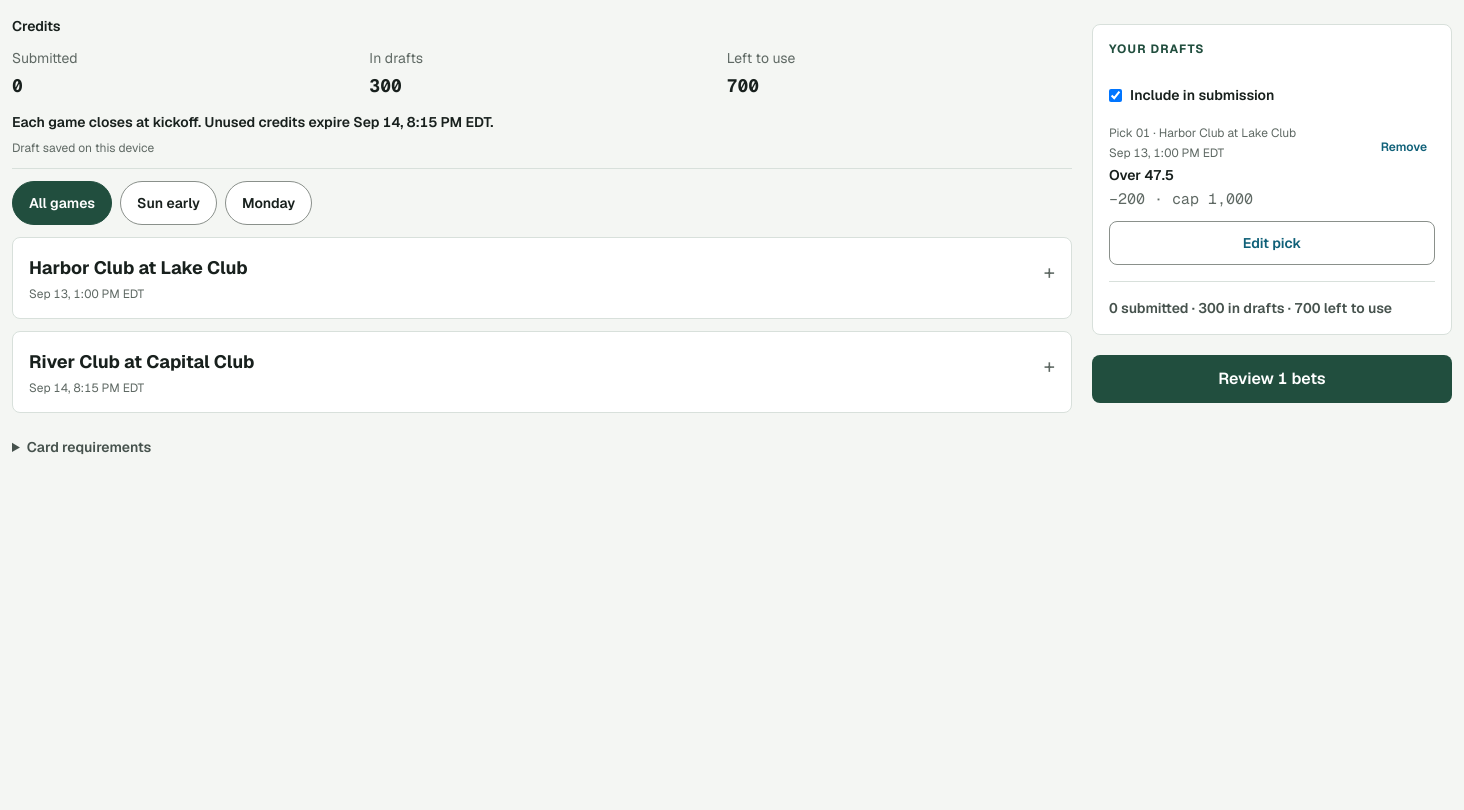
Test case: rolling member submission flow › does not overwrite another tab's draft changes during an odds review
Click the button "Review 1 bets": [1272, 379] box [1092,355,1452,403]
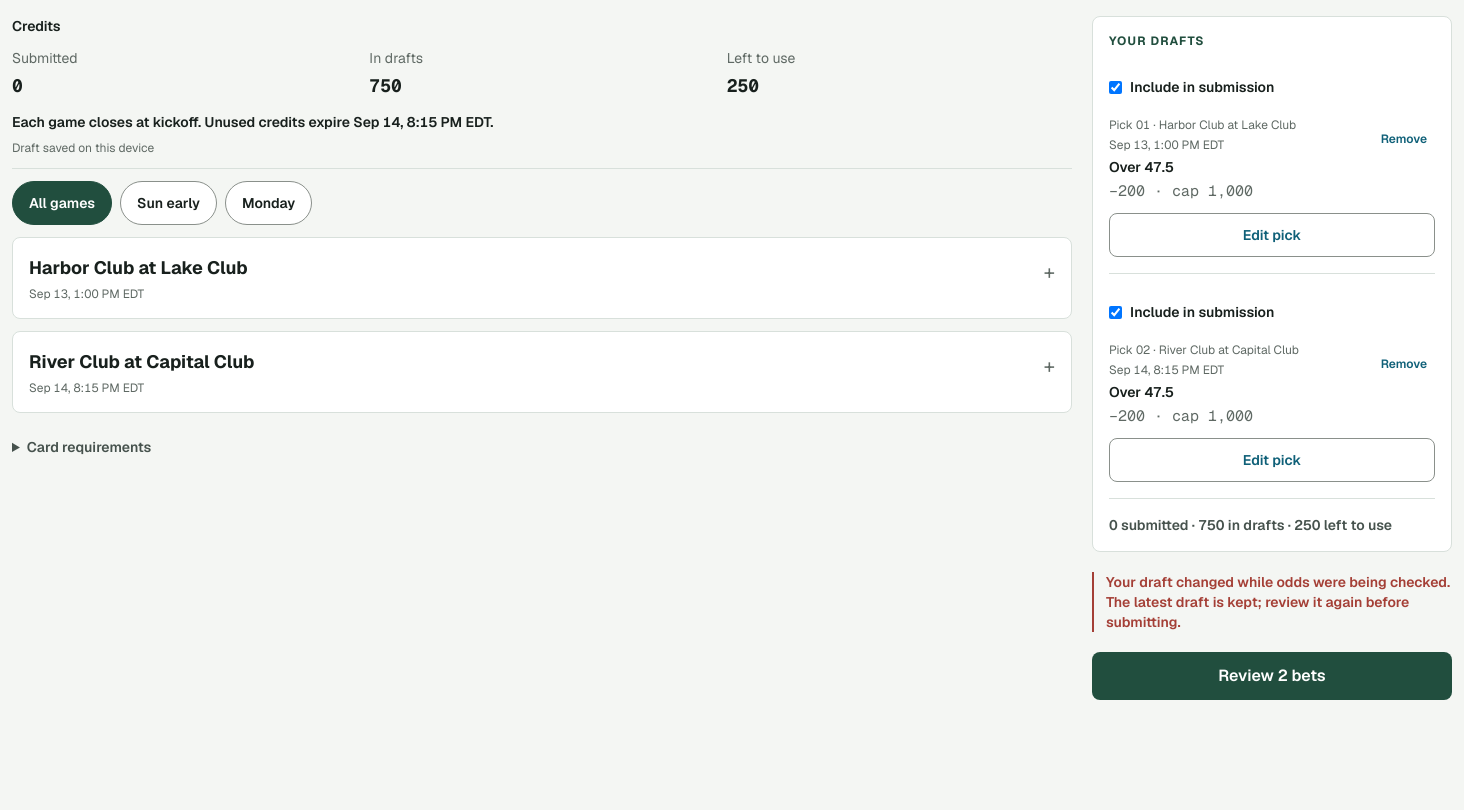
expect the 2nd message shows "Your draft changed while odds were being checked": met, box [1106,573,1450,631]
